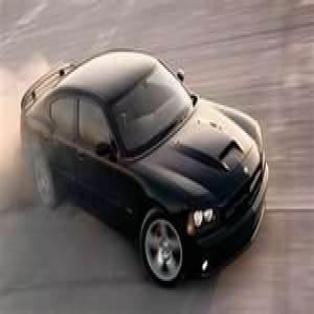Auto: (19, 50, 270, 290)
